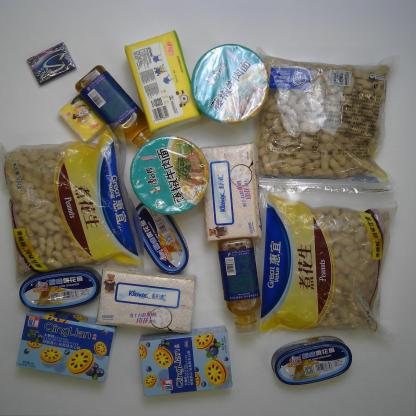Canned Food: (131, 200, 190, 276), (270, 332, 353, 386), (18, 265, 103, 312)
Dessert: (13, 308, 118, 386), (137, 324, 235, 397)
Dried Food: (0, 120, 148, 283), (251, 46, 398, 210), (248, 188, 398, 338)
Drink: (73, 63, 154, 146), (215, 235, 263, 335)
Gum: (25, 41, 78, 87)
Instant Noodles: (129, 134, 211, 216), (190, 42, 270, 126)
Tissue: (123, 29, 203, 135), (194, 140, 267, 244), (97, 264, 198, 336), (57, 93, 109, 144)
